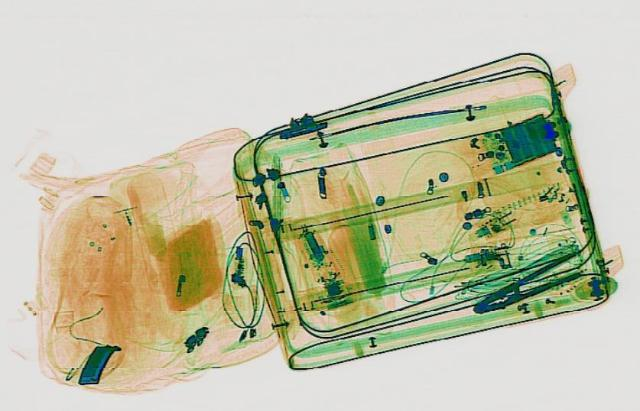Pliers: (459, 249, 596, 319)
